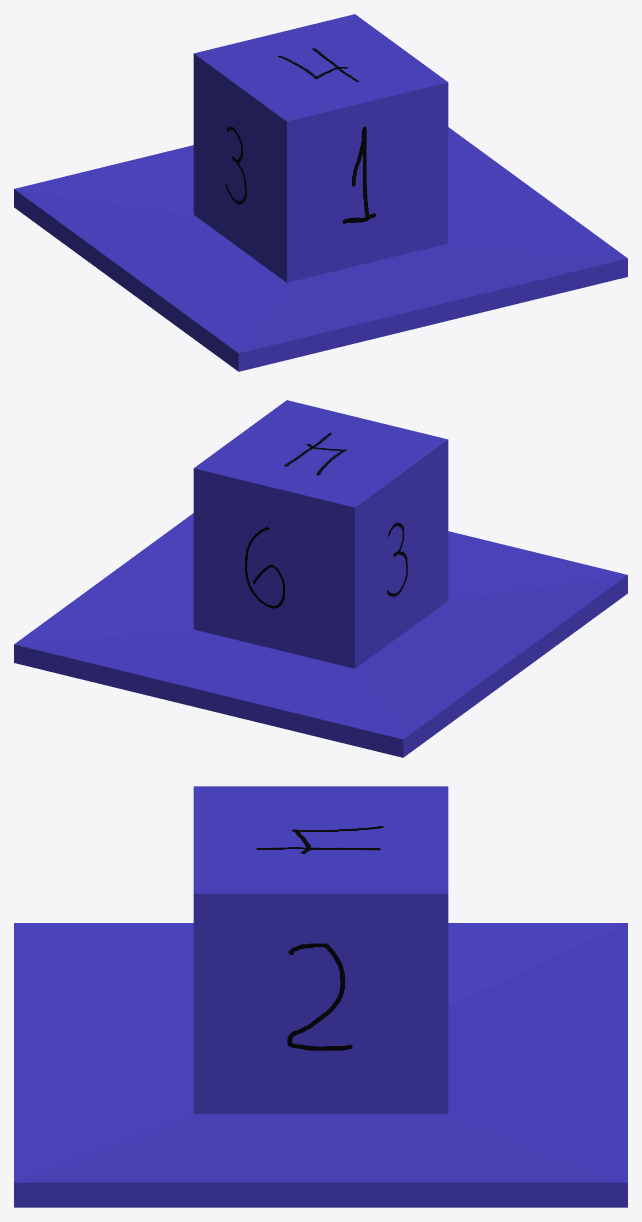
Rendered from Cubo teste.glb.
3 views of the same model, one above another, from view 1: azimuth 30°, elevation 25°; view 2: azimuth 150°, elevation 25°; view 3: azimuth 270°, elevation 25° (orthographic). The views are drawn at different scales.
Visible parts, largest first — view 1: Cube-col; view 2: Cube-col; view 3: Cube-col.
Boxes of the visible parts, x1=… form: Cube-col: x1=14, y1=14, x2=627, y2=371; Cube-col: x1=14, y1=400, x2=627, y2=757; Cube-col: x1=14, y1=786, x2=627, y2=1207.
Bounding box in the file's own units: 29.27 × 12.52 × 29.27.
1 material, 1 textured.
